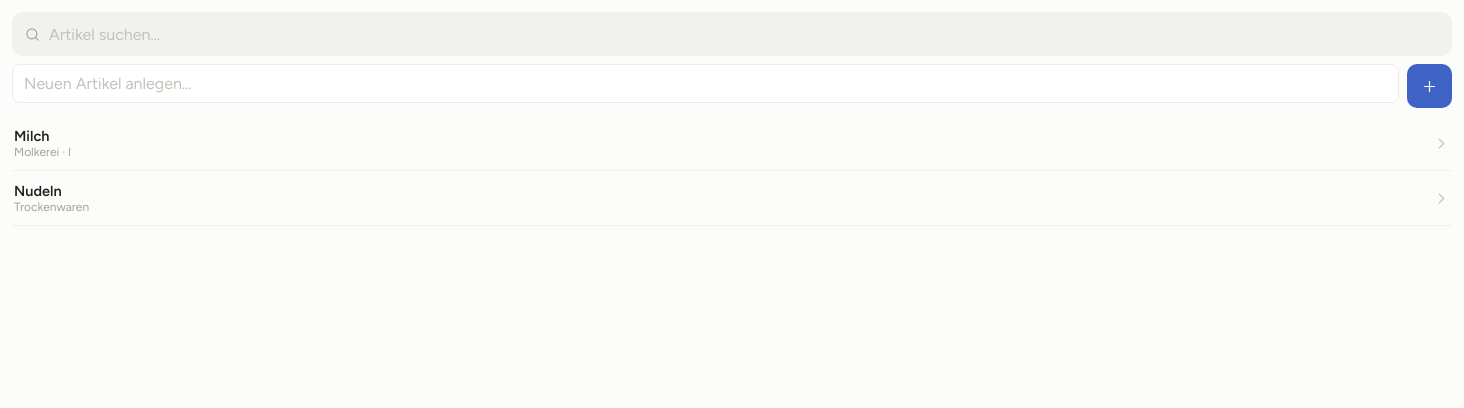
Test case: CatalogBrowser › closes the panel again on Abbrechen
Step 1. Click the button "Milch Molkerei · l" → coordinates (32, 136), box left=12, top=116, right=1452, bottom=171
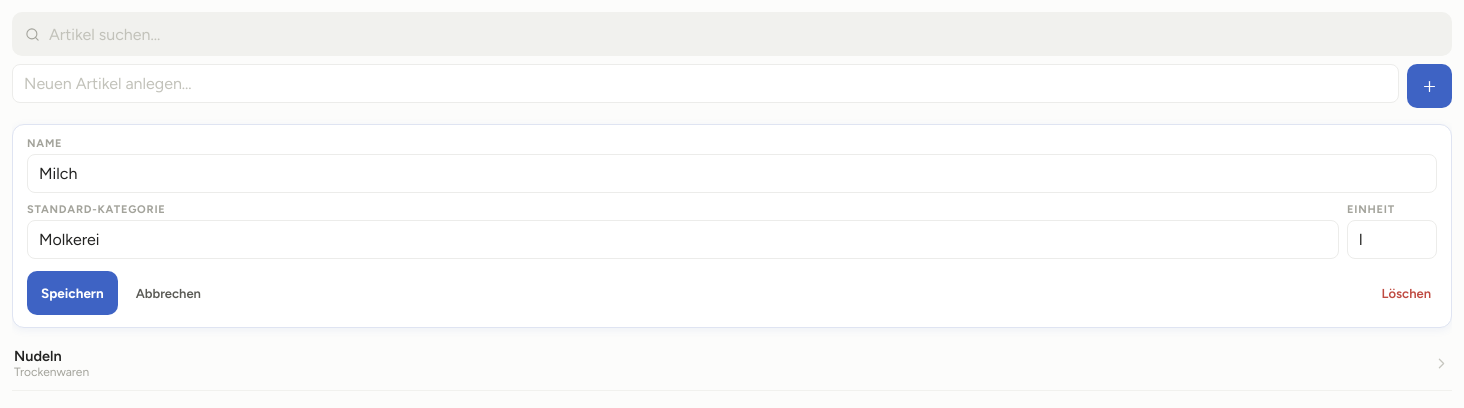
Step 2. Click the button "Abbrechen" → coordinates (168, 293), box left=130, top=284, right=207, bottom=302
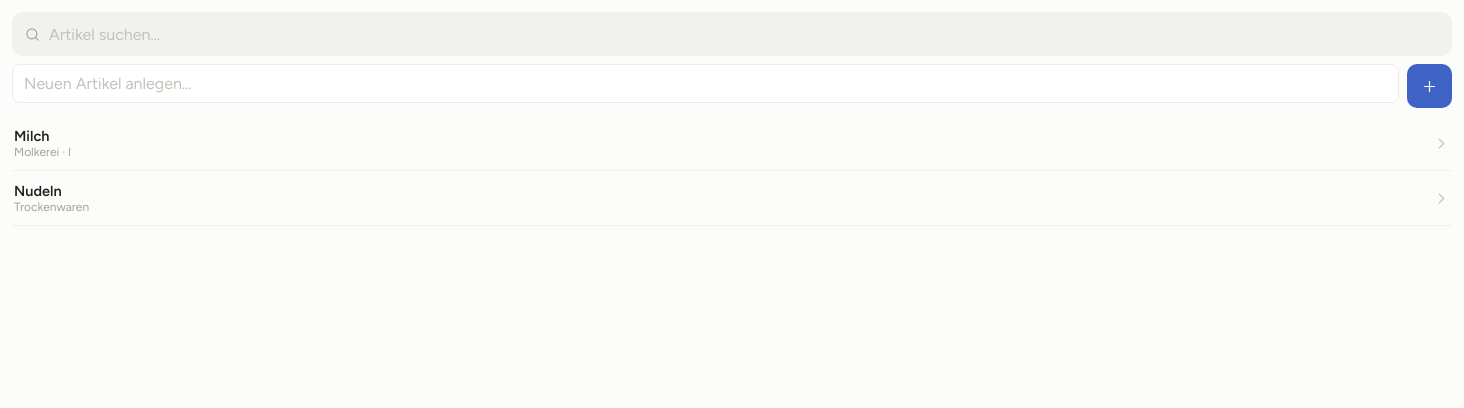
expect the button "Speichern" is gone: met
expect the button "Milch Molkerei · l" is shown: met, box left=12, top=116, right=1452, bottom=171
